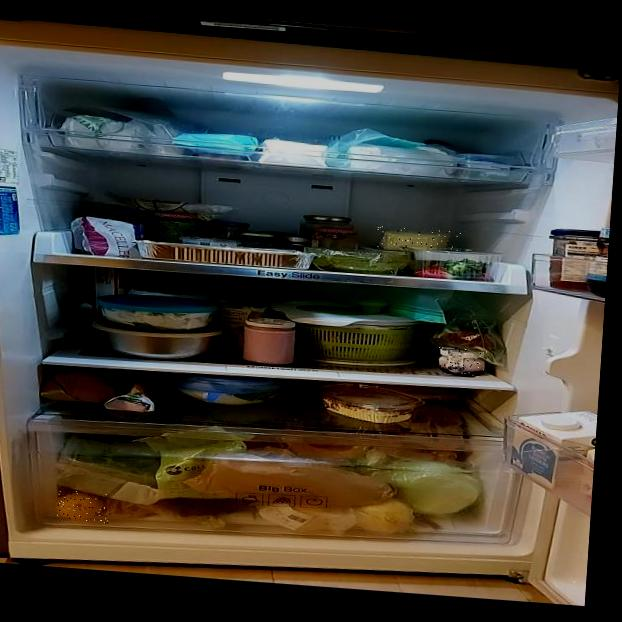cheese: (375, 226, 461, 255)
lemon: (57, 490, 112, 524)
milk: (504, 392, 598, 487)
yoghurt: (438, 348, 488, 377)
